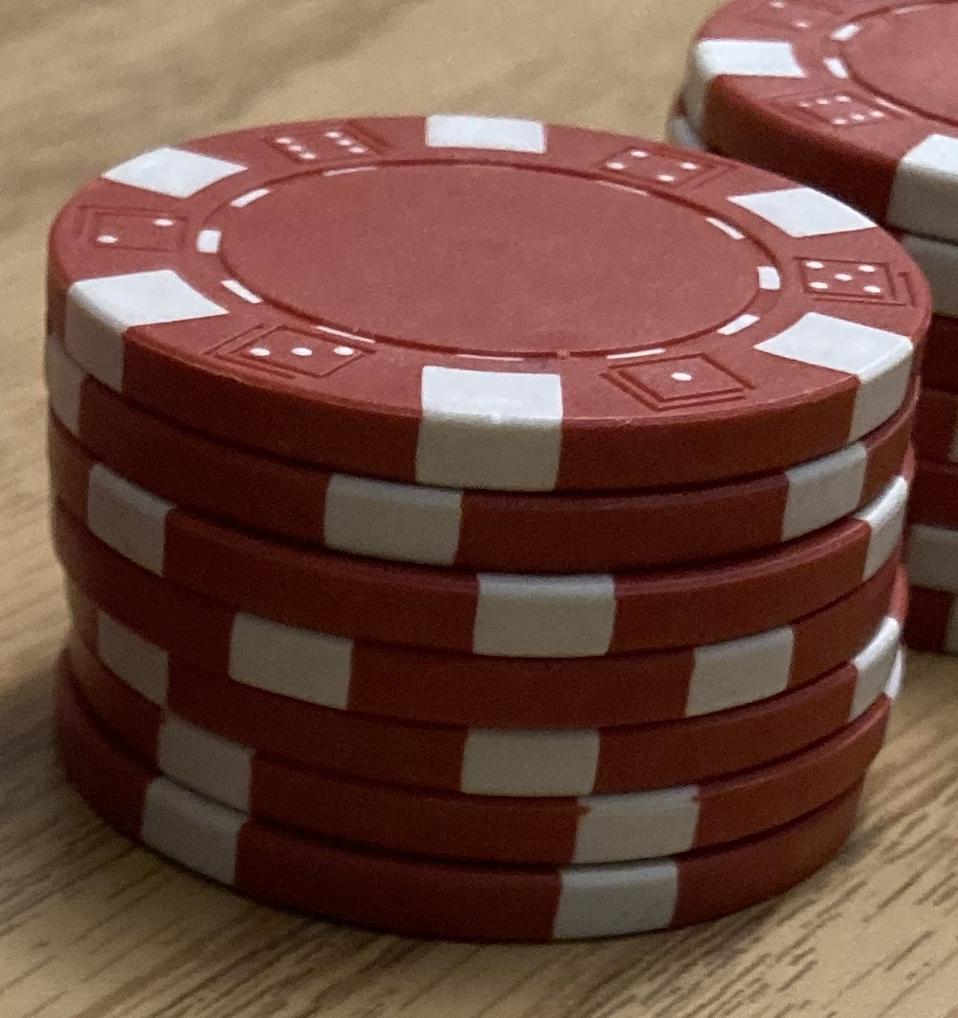Chip: (1, 1, 958, 1018)
